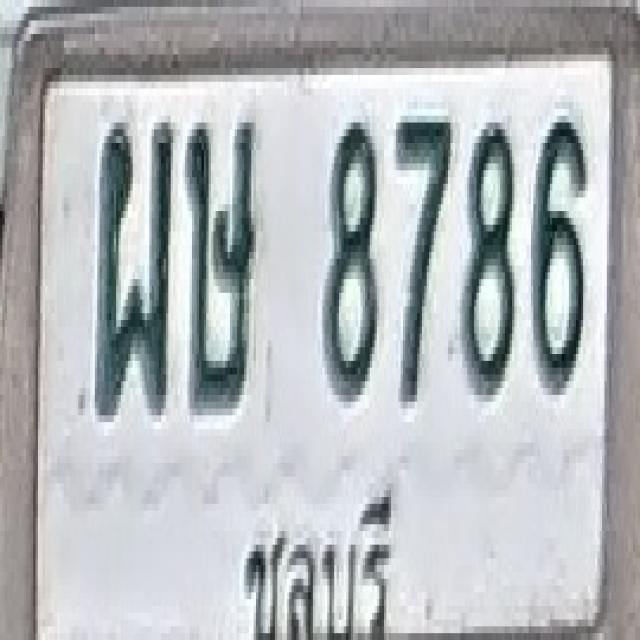-: (95, 116, 173, 415), (186, 112, 257, 412)
6: (532, 112, 587, 392)
7: (394, 112, 452, 405)
8: (324, 116, 378, 402), (460, 116, 514, 395)
CBI: (232, 476, 405, 640)
